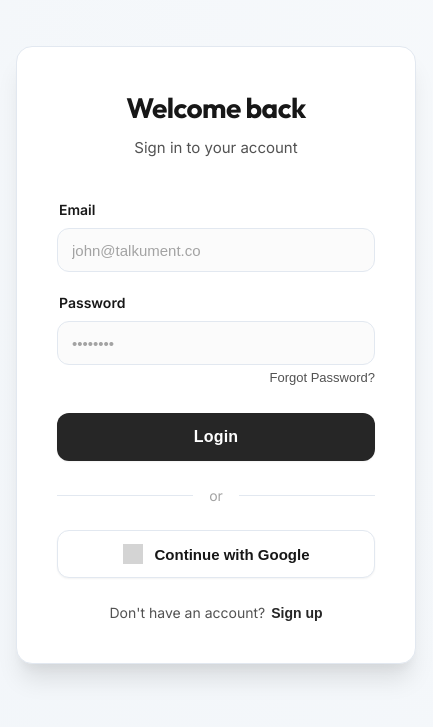
Test: AuthPage › shows error on failed login
The width and height of the screenshot is (433, 727).
Step 1. Type "wrong@mail.com" into the field with placeholder "john@talkument.co" → coordinates (216, 250), box [57,228,375,272]
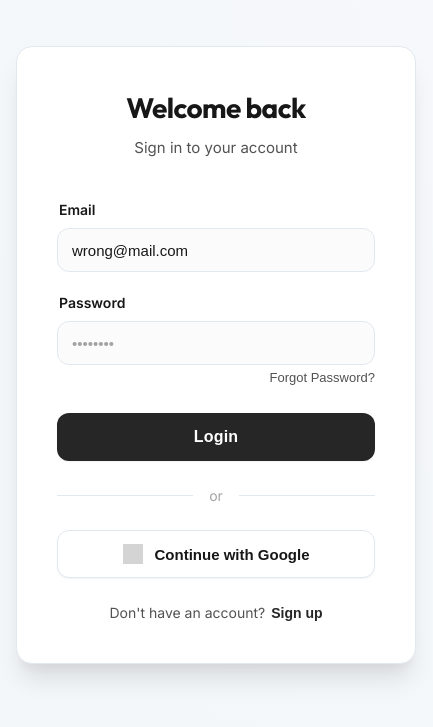
Step 2. Type "wrong" into the password field with placeholder "••••••••" → coordinates (216, 343), box [57,321,375,365]
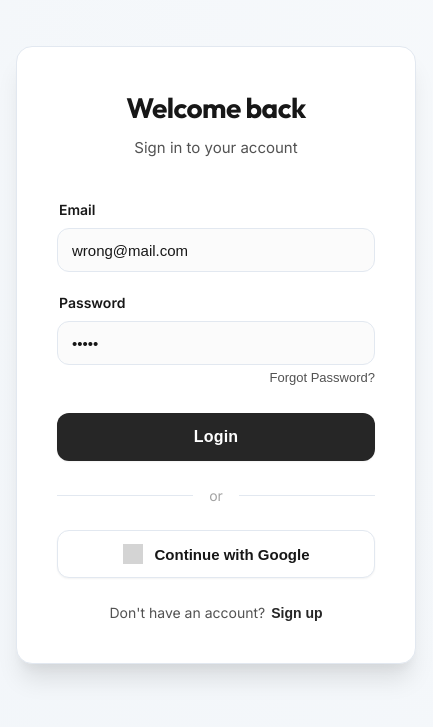
Step 3. Click the button "Login" → coordinates (216, 437), box [57,413,375,461]
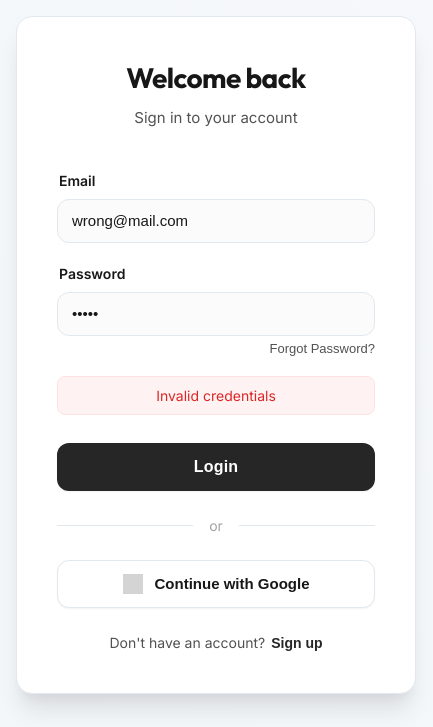
Expected: the text "Invalid credentials" is shown, [57,376,375,415]
